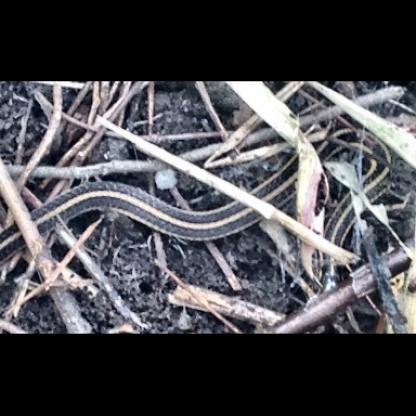Snake: (302, 121, 358, 321)
